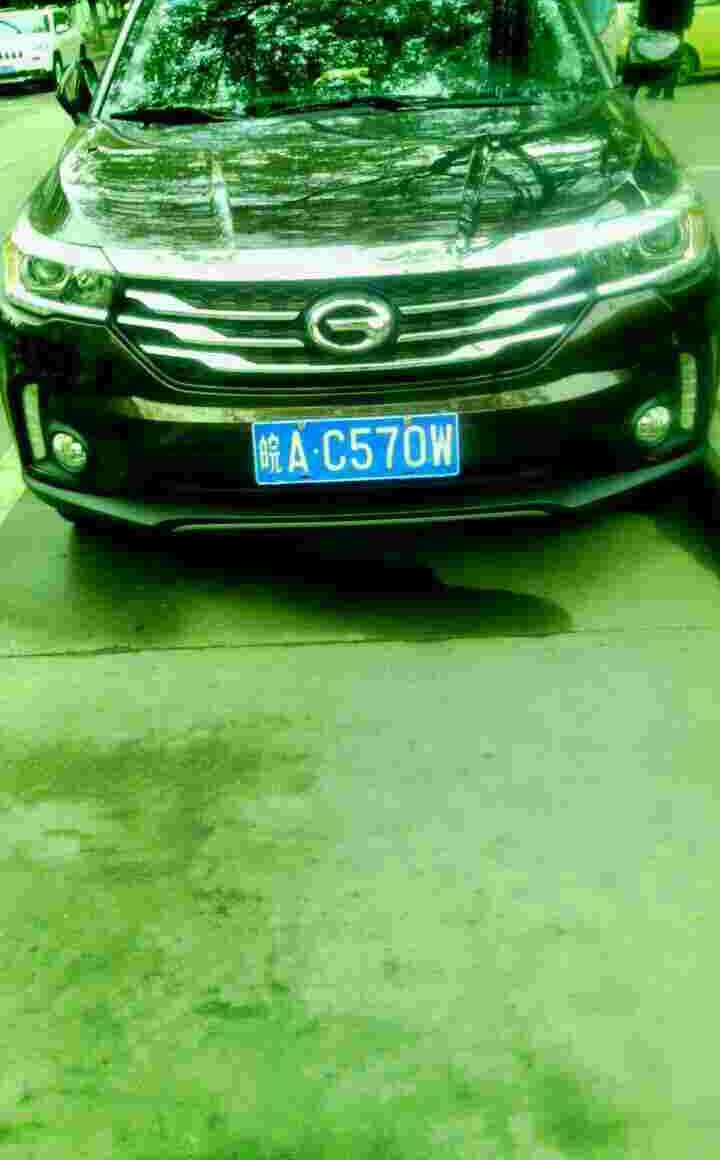license_plate: (251, 421, 460, 483)
